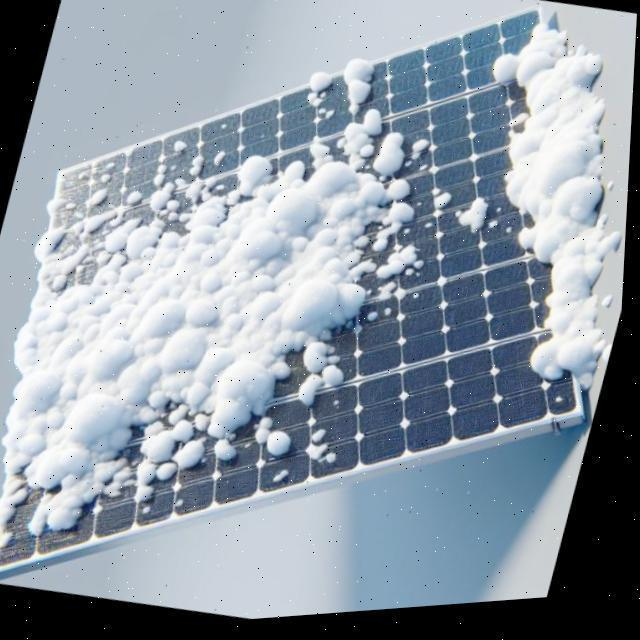Anomaly Solar Panel: (0, 13, 589, 572)
Snow: (0, 103, 456, 551), (487, 20, 579, 401), (294, 59, 387, 139), (425, 188, 497, 250)
